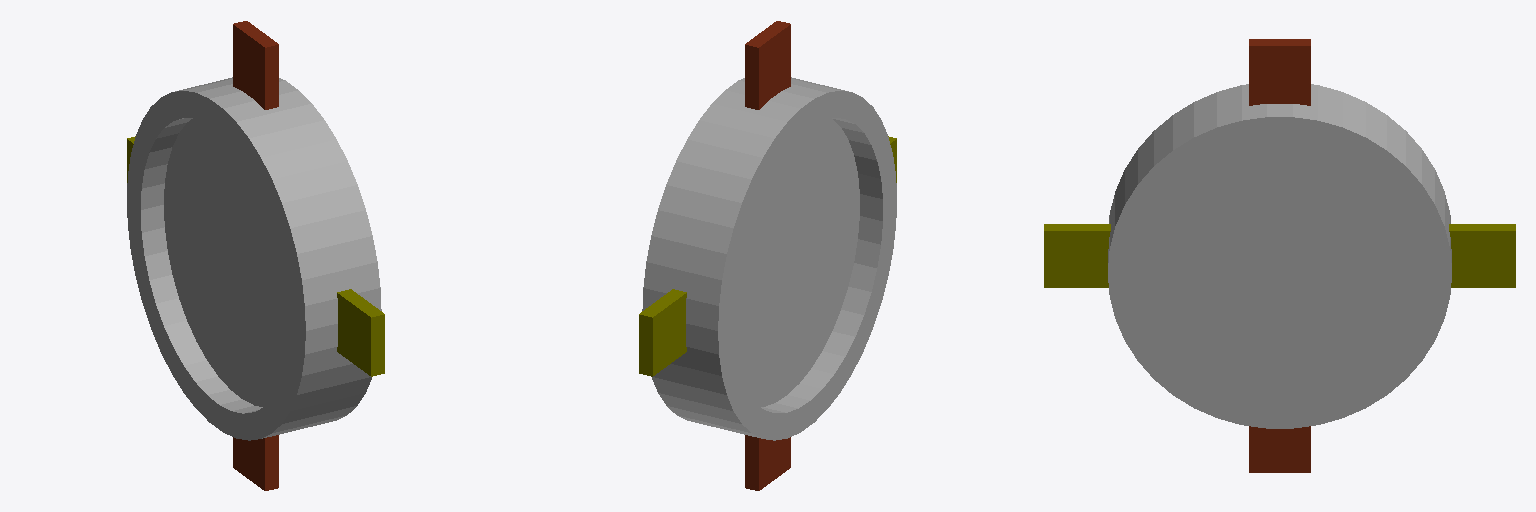
The robot description file, URDF, robot "panda":
<?xml version='1.0' encoding='utf-8'?>
<robot name="panda">

    <link name="link0">
      <inertial>
        <origin xyz="0 0 0.05" rpy="0 0 0" />
        <mass value="4" />
        <inertia ixx="0.4" iyy="0.4" izz="0.4" ixy="0" ixz="0" iyz="0" />
      </inertial>
      <visual>
        <geometry>
          <mesh filename="../../../../examples/models/panda/meshes/link0.obj"/>
        </geometry>
      </visual>
<!--       <collision>
        <geometry>
          <mesh filename="../../../../examples/models/panda/meshes/link0.obj"/>
        </geometry>
      </collision> -->
    </link>
    <link name="link1">
      <inertial>
        <origin xyz="0 0 -0.07" rpy="0 -0 0" />
        <mass value="3" />
        <inertia ixx="0.3" iyy="0.3" izz="0.3" ixy="0" ixz="0" iyz="0" />
      </inertial>
      <visual>
        <geometry>
          <mesh filename="../../../../examples/models/panda/meshes/link1.obj"/>
        </geometry>
      </visual>
      <!-- <collision>
        <geometry>
          <mesh filename="../../../../examples/models/panda/meshes/link1.obj"/>
        </geometry>
      </collision> -->
    </link>
    <link name="link2">
      <inertial>
        <origin xyz="0 -0.1 0" rpy="0 -0 0" />
        <mass value="3" />
        <inertia ixx="0.3" iyy="0.3" izz="0.3" ixy="0" ixz="0" iyz="0" />
      </inertial>
      <visual>
        <geometry>
          <mesh filename="../../../../examples/models/panda/meshes/link2.obj"/>
        </geometry>
      </visual>
      <!-- <collision>
        <geometry>
          <mesh filename="../../../../examples/models/panda/meshes/link2.obj"/>
        </geometry>
      </collision> -->
    </link>
    <link name="link3">
      <inertial>
        <origin xyz="0.04 0 -0.05" rpy="0 -0 0" />
        <mass value="2" />
        <inertia ixx="0.2" iyy="0.2" izz="0.2" ixy="0" ixz="0" iyz="0" />
      </inertial>
      <visual>
        <geometry>
          <mesh filename="../../../../examples/models/panda/meshes/link3.obj"/>
        </geometry>
      </visual>
      <!-- <collision>
        <geometry>
          <mesh filename="../../../../examples/models/panda/meshes/link3.obj"/>
        </geometry>
      </collision> -->
    </link>
    <link name="link4">
      <inertial>
        <origin xyz="-0.04 0.05 0" rpy="0 -0 0" />
        <mass value="2" />
        <inertia ixx="0.2" iyy="0.2" izz="0.2" ixy="0" ixz="0" iyz="0" />
      </inertial>
      <visual>
        <geometry>
          <mesh filename="../../../../examples/models/panda/meshes/link4.obj"/>
        </geometry>
      </visual>
      <!-- <collision>
        <geometry>
          <mesh filename="../../../../examples/models/panda/meshes/link4.obj"/>
        </geometry>
      </collision> -->
    </link>
    <link name="link5">
      <inertial>
        <origin xyz="0 0 -0.15" rpy="0 -0 0" />
        <mass value="2" />
        <inertia ixx="0.2" iyy="0.2" izz="0.2" ixy="0" ixz="0" iyz="0" />
      </inertial>
      <visual>
        <geometry>
          <mesh filename="../../../../examples/models/panda/meshes/link5.obj"/>
        </geometry>
      </visual>
      <!-- <collision>
        <geometry>
          <mesh filename="../../../../examples/models/panda/meshes/link5.obj"/>
        </geometry>
      </collision> -->
    </link>
    <link name="link6">
      <inertial>
        <origin xyz="0.06 0 0" rpy="0 -0 0" />
        <mass value="1.5" />
        <inertia ixx="0.1" iyy="0.1" izz="0.1" ixy="0" ixz="0" iyz="0" />
      </inertial>
      <visual>
        <geometry>
          <mesh filename="../../../../examples/models/panda/meshes/link6.obj"/>
        </geometry>
      </visual>
      <!-- <collision>
        <geometry>
          <mesh filename="../../../../examples/models/panda/meshes/link6.obj"/>
        </geometry>
      </collision> -->
    </link>
    <link name="link7">
      <inertial>
        <origin xyz="0 0 0.08" rpy="0 -0 0" />
        <mass value="0.5" />
        <inertia ixx="0.05" iyy="0.05" izz="0.05" ixy="0" ixz="0" iyz="0" />
      </inertial>
      <visual>
        <origin xyz="0 0 0" rpy="0 0 0" />
        <geometry>
          <mesh filename="../../../../examples/models/panda/meshes/link7.obj"/>
        </geometry>
      </visual>
      <!-- <collision>
        <geometry>
          <mesh filename="../../../../examples/models/panda/meshes/link7.obj"/>
        </geometry>
      </collision> -->
        <visual>
            <origin xyz="0 0 0.37" rpy="0 0 0" />
            <geometry>
<!--                 <box size="0.08 0.08 0.08" /> -->
                <!-- <cylinder radius="0.06" length="0.03"/> -->
                <mesh filename="Cap2_NoThreads.obj" scale="0.041 0.041 0.041" />
            </geometry>
        </visual>
        <visual>
            <origin xyz="0 0 0.045" rpy="0 0 0" />
            <geometry>
                <box size="0.15 0.02 0.005" />
                <!-- <cylinder radius="0.08" length="0.01"/> -->
            </geometry>
            <material name="material_ee">
                <color rgba="0.5 0.2 0.1 1.0" />
            </material>
        </visual>
        <visual>
            <origin xyz="0 0 0.045" rpy="0 0 0" />
            <geometry>
                <box size="0.02 0.15 0.005" />
                <!-- <cylinder radius="0.08" length="0.01"/> -->
            </geometry>
            <material name="material_ee">
                <color rgba="0.5 0.5 0.0 1.0" />
            </material>
        </visual>
<!--         <collision>
            <origin xyz="0 0 0" rpy="0 0 0" />
            <geometry>
                <mesh filename="../../../../examples/models/iiwa7/meshes/link6.obj" scale="1 1 1" />
            </geometry>
        </collision> -->
        <collision>
<!--             <origin xyz="0 0 0.03" rpy="0 0 0" />
            <geometry>
                <cylinder radius="0.06" length="0.03"/>
            </geometry> -->
            <origin xyz="0 0 0.37" rpy="0 0 0" />
            <geometry>
                <mesh filename="Cap2_NoThreads.obj" scale="0.041 0.041 0.041" />
            </geometry>
        </collision>

      
    </link>
    <joint name="joint1" type="revolute">
      <safety_controller k_position="100.0" k_velocity="40.0" soft_lower_limit="-2.8973" soft_upper_limit="2.8973"/>
      <origin rpy="0 0 0" xyz="0 0 0.333"/>
      <parent link="link0"/>
      <child link="link1"/>
      <axis xyz="0 0 1"/>
      <limit effort="87" lower="-2.8973" upper="2.8973" velocity="2.1750"/>
    </joint>
    <joint name="joint2" type="revolute">
      <safety_controller k_position="100.0" k_velocity="40.0" soft_lower_limit="-1.7628" soft_upper_limit="1.7628"/>
      <origin rpy="-1.57079632679 0 0" xyz="0 0 0"/>
      <parent link="link1"/>
      <child link="link2"/>
      <axis xyz="0 0 1"/>
      <calibration falling="-45.0" />
      <limit effort="87" lower="-1.7628" upper="1.7628" velocity="2.1750"/>
    </joint>
    <joint name="joint3" type="revolute">
      <safety_controller k_position="100.0" k_velocity="40.0" soft_lower_limit="-2.8973" soft_upper_limit="2.8973"/>
      <origin rpy="1.57079632679 0 0" xyz="0 -0.316 0"/>
      <parent link="link2"/>
      <child link="link3"/>
      <axis xyz="0 0 1"/>
      <limit effort="87" lower="-2.8973" upper="2.8973" velocity="2.1750"/>
    </joint>
    <joint name="joint4" type="revolute">
      <safety_controller k_position="100.0" k_velocity="40.0" soft_lower_limit="-3.0718" soft_upper_limit="-0.0698"/>
      <origin rpy="1.57079632679 0 0" xyz="0.0825 0 0"/>
      <parent link="link3"/>
      <child link="link4"/>
      <axis xyz="0 0 1"/>
      <calibration falling="-125.0" />
      <limit effort="87" lower="-3.0718" upper="-0.0698" velocity="2.1750"/>
    </joint>
    <joint name="joint5" type="revolute">
      <safety_controller k_position="100.0" k_velocity="40.0" soft_lower_limit="-2.8973" soft_upper_limit="2.8973"/>
      <origin rpy="-1.57079632679 0 0" xyz="-0.0825 0.384 0"/>
      <parent link="link4"/>
      <child link="link5"/>
      <axis xyz="0 0 1"/>
      <limit effort="12" lower="-2.8973" upper="2.8973" velocity="2.6100"/>
    </joint>
    <joint name="joint6" type="revolute">
      <safety_controller k_position="100.0" k_velocity="40.0" soft_lower_limit="-0.0175" soft_upper_limit="3.7525"/>
      <origin rpy="1.57079632679 0 0" xyz="0 0 0"/>
      <parent link="link5"/>
      <child link="link6"/>
      <axis xyz="0 0 1"/>
      <calibration falling="80.0" />
      <limit effort="12" lower="-0.0175" upper="3.7525" velocity="2.6100"/>
    </joint>
    <joint name="joint7" type="revolute">
      <safety_controller k_position="100.0" k_velocity="40.0" soft_lower_limit="-2.8973" soft_upper_limit="2.8973"/>
      <origin rpy="1.57079632679 0 0" xyz="0.088 0 0"/>
      <parent link="link6"/>
      <child link="link7"/>
      <axis xyz="0 0 1"/>
      <limit effort="12" lower="-2.8973" upper="2.8973" velocity="2.6100"/>
    </joint>
<!--     <link name="link8"/>
    <joint name="joint8" type="fixed">
      <origin rpy="0 0 0" xyz="0 0 0.107"/>
      <parent link="link7"/>
      <child link="link8"/>
      <axis xyz="0 0 0"/>
    </joint> -->
  <!-- </xacro:macro> -->
</robot>

--- Render facts (derived) ---
3 views of the same robot in one strip: view 1: azimuth 30°, elevation 25°; view 2: azimuth 150°, elevation 25°; view 3: azimuth 270°, elevation 25° (orthographic).
Model panda with 8 links and 7 joints (7 revolute), rooted at link0, posed joints at zero except 1 at the middle of their limits (joint4 = -1.57).
Visible links, largest first — view 1: link7; view 2: link7; view 3: link7.
Boxes of the visible links, box(x1,y1,x2,y2) form: link7: box(127, 21, 384, 490); link7: box(639, 21, 896, 490); link7: box(1044, 39, 1515, 472).
Size in the robot's own frame: 0.0268 by 0.15 by 0.15 metres.
Meshes: 1 distinct files referenced, 1 mesh visuals loaded (1 OBJ); not drawn: 8 (reference in a form the renderer does not follow; not among the files counted above).